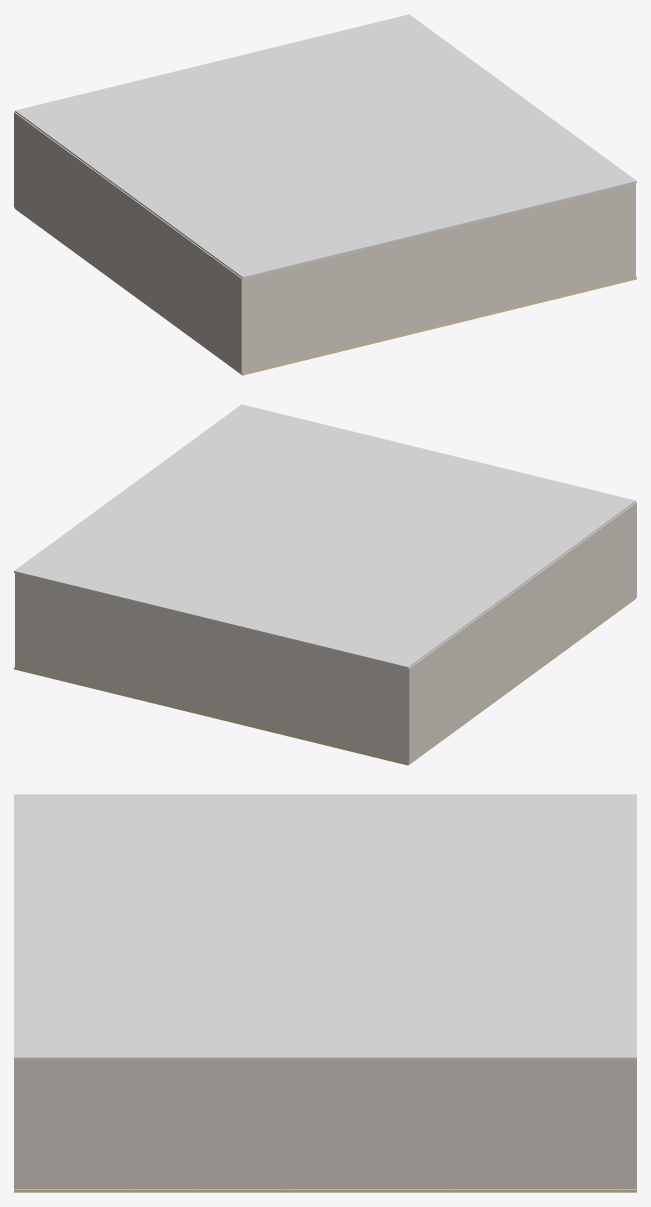
Rendered from textured environment.fbx.
3 renders of one model, top to bottom at view 1: azimuth 30°, elevation 25°; view 2: azimuth 150°, elevation 25°; view 3: azimuth 270°, elevation 25°, orthographic. The views are drawn at different scales.
Visible parts, largest first — view 1: floor.001, walls, floor; view 2: floor.001, walls, floor; view 3: floor.001, walls, floor.
Boxes of the visible parts, box(x1,y1,x2,y2) form: floor.001: box(15, 14, 636, 278); walls: box(14, 112, 635, 373); floor: box(15, 208, 636, 375); floor.001: box(14, 404, 635, 668); walls: box(15, 502, 636, 763); floor: box(14, 598, 635, 765); floor.001: box(14, 794, 636, 1060); walls: box(14, 1060, 636, 1188); floor: box(14, 1189, 636, 1192).
Size of the model in its own units: 5828 by 1387 by 5813.
Materials: 13 (3 with a texture image).
